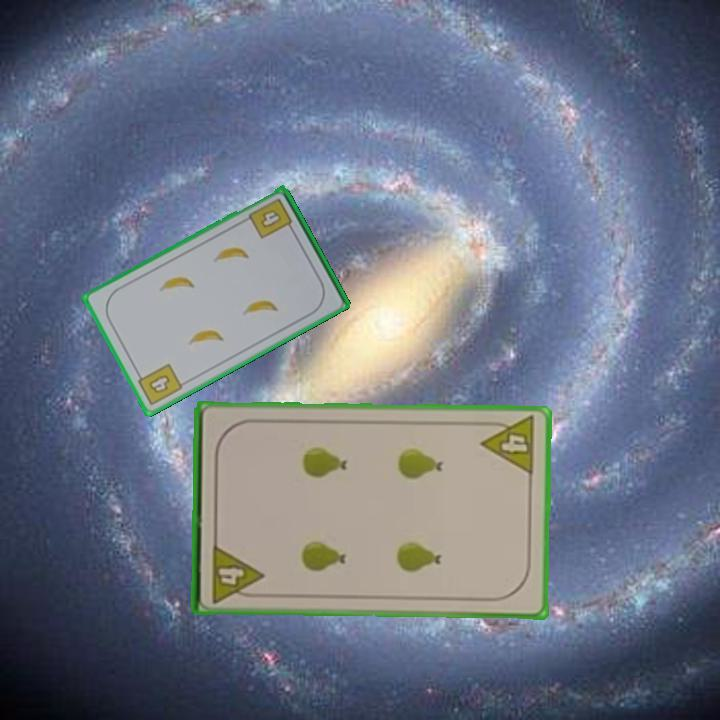4b: (132, 360, 185, 409), (245, 194, 297, 242)
4p: (478, 413, 539, 478), (208, 540, 265, 605)
